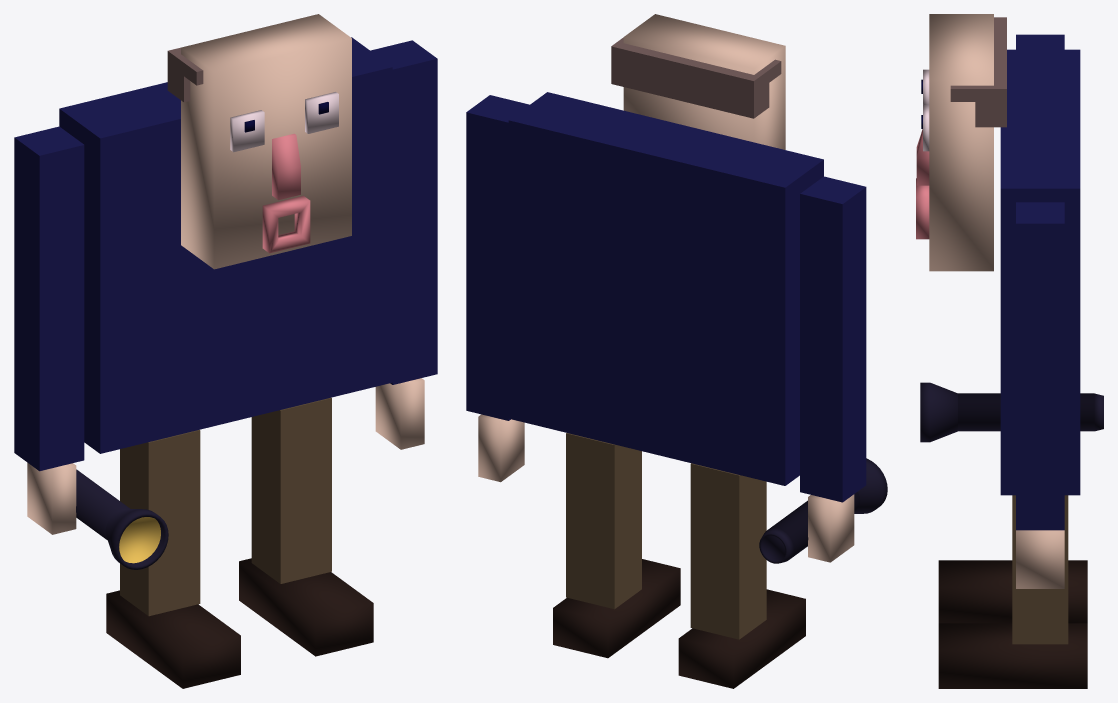
Rendered from oldMan.fbx.
3 views of the same model, side by side, from view 1: azimuth 30°, elevation 25°; view 2: azimuth 150°, elevation 25°; view 3: azimuth 270°, elevation 25° (orthographic). The views are drawn at different scales.
Visible parts, largest first — view 1: Cube, Cube.001, Cube.016, Cube.015, Cube.014, Cube.017, Cube.018, Cube.005, Cylinder, Cube.019, Cube.004, Cube.008 (+4 smaller); view 2: Cube, Cube.016, Cube.015, Cube.017, Cube.014, Cube.001, Cube.006, Cube.018, Cube.005, Cylinder, Cube.019, Cube.004; view 3: Cube, Cube.015, Cube.001, Cube.005, Cube.018, Cylinder, Cube.014, Cube.004, Cube.006, Cube.016, Cube.008, Cube.007 (+1 smaller).
Boxes of the visible parts, x1=… form: Cube: x1=59, y1=37, x2=392, y2=453; Cube.001: x1=181, y1=14, x2=351, y2=269; Cube.016: x1=14, y1=126, x2=84, y2=471; Cube.015: x1=370, y1=40, x2=437, y2=384; Cube.014: x1=251, y1=397, x2=331, y2=583; Cube.017: x1=120, y1=430, x2=200, y2=616; Cube.018: x1=106, y1=590, x2=240, y2=688; Cube.005: x1=239, y1=558, x2=373, y2=656; Cylinder: x1=76, y1=469, x2=168, y2=569; Cube.019: x1=27, y1=462, x2=76, y2=534; Cube.004: x1=375, y1=378, x2=424, y2=449; Cube.008: x1=262, y1=195, x2=310, y2=253; Cube: x1=508, y1=92, x2=823, y2=485; Cube.016: x1=800, y1=176, x2=866, y2=502; Cube.015: x1=466, y1=95, x2=529, y2=420; Cube.017: x1=690, y1=463, x2=766, y2=639; Cube.014: x1=566, y1=433, x2=641, y2=609; Cube.001: x1=623, y1=14, x2=785, y2=149; Cube.006: x1=611, y1=37, x2=781, y2=118; Cube.018: x1=678, y1=589, x2=805, y2=688; Cube.005: x1=553, y1=559, x2=680, y2=658; Cylinder: x1=759, y1=458, x2=887, y2=563; Cube.019: x1=808, y1=494, x2=854, y2=562; Cube.004: x1=478, y1=414, x2=524, y2=482; Cube: x1=1000, y1=49, x2=1080, y2=495; Cube.015: x1=1016, y1=202, x2=1064, y2=530; Cube.001: x1=929, y1=14, x2=993, y2=271; Cube.005: x1=938, y1=623, x2=1087, y2=688; Cube.018: x1=938, y1=560, x2=1087, y2=623; Cylinder: x1=920, y1=382, x2=1103, y2=442; Cube.014: x1=1012, y1=495, x2=1068, y2=644; Cube.004: x1=1016, y1=530, x2=1064, y2=588; Cube.006: x1=950, y1=17, x2=1006, y2=127; Cube.016: x1=1016, y1=34, x2=1064, y2=49; Cube.008: x1=916, y1=178, x2=929, y2=239; Cube.007: x1=916, y1=129, x2=929, y2=185.
Bounding box in the file's own units: 422 × 622 × 177.
